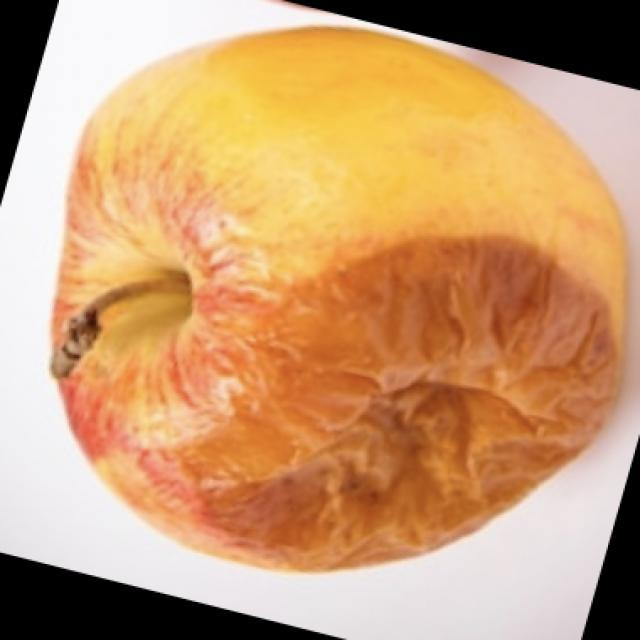Rotten: (53, 30, 610, 567)
